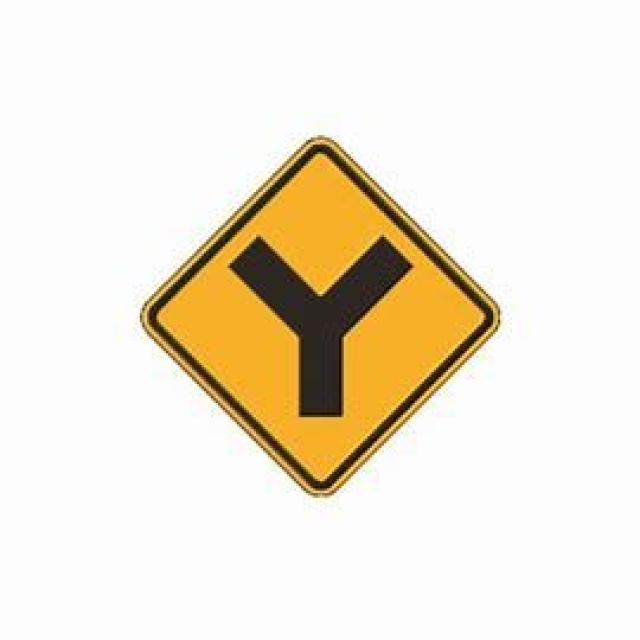light_traffic: (135, 133, 498, 495)
